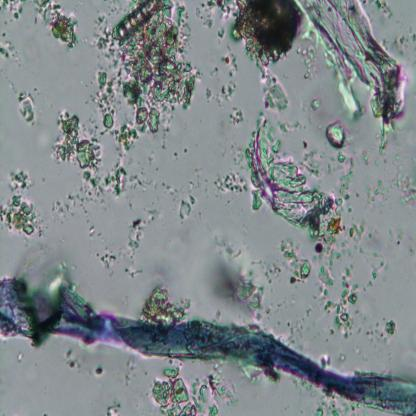Background material: (96, 0, 196, 150), (273, 212, 374, 298), (51, 112, 128, 205), (213, 1, 303, 70), (196, 244, 262, 316), (150, 363, 235, 415), (99, 207, 158, 271), (202, 50, 244, 124), (365, 155, 416, 213), (0, 168, 39, 234), (33, 0, 79, 50), (141, 280, 185, 328), (115, 0, 162, 40), (329, 281, 361, 333), (258, 67, 290, 114), (263, 300, 307, 333), (39, 202, 75, 237), (131, 164, 171, 195), (382, 31, 416, 61), (214, 170, 249, 198), (173, 187, 196, 221), (118, 357, 140, 390), (18, 88, 37, 126), (327, 117, 348, 151), (63, 344, 86, 374), (382, 230, 410, 254), (0, 34, 20, 64), (256, 260, 281, 282), (0, 0, 23, 19), (224, 145, 243, 167), (373, 0, 396, 18), (197, 1, 214, 25), (382, 318, 399, 337), (106, 402, 121, 414), (92, 366, 106, 378), (171, 148, 179, 160), (182, 145, 190, 154)
Cellulose filter fibre: (295, 2, 407, 126), (247, 119, 334, 238)
Diatom: (0, 277, 416, 414)
